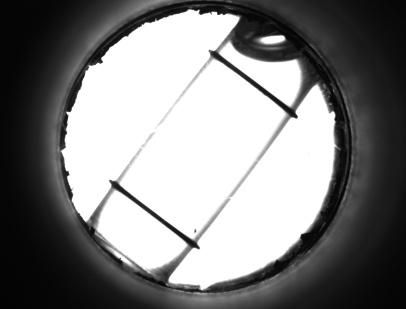line: (121, 195, 186, 231), (223, 69, 289, 99)
